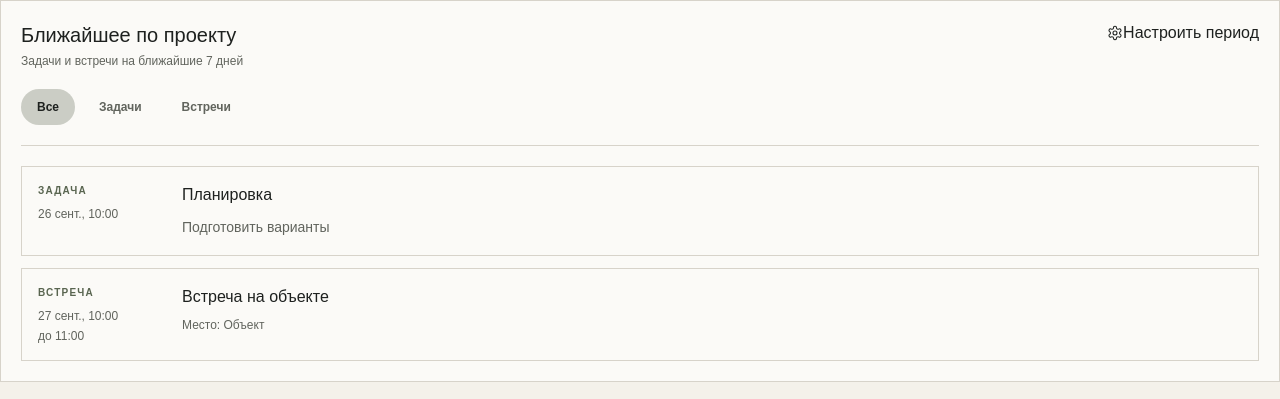
Test: ProjectUpcoming › loads items, filters them and hides creation actions without permission
This screenshot has width=1280, height=399.
Expected: the heading "Планировка" is shown, [182,186,272,203]
Expected: the heading "Встреча на объекте" is shown, [182,288,329,305]
Click the button "Задачи" at (120, 107), box [83,89,158,125]
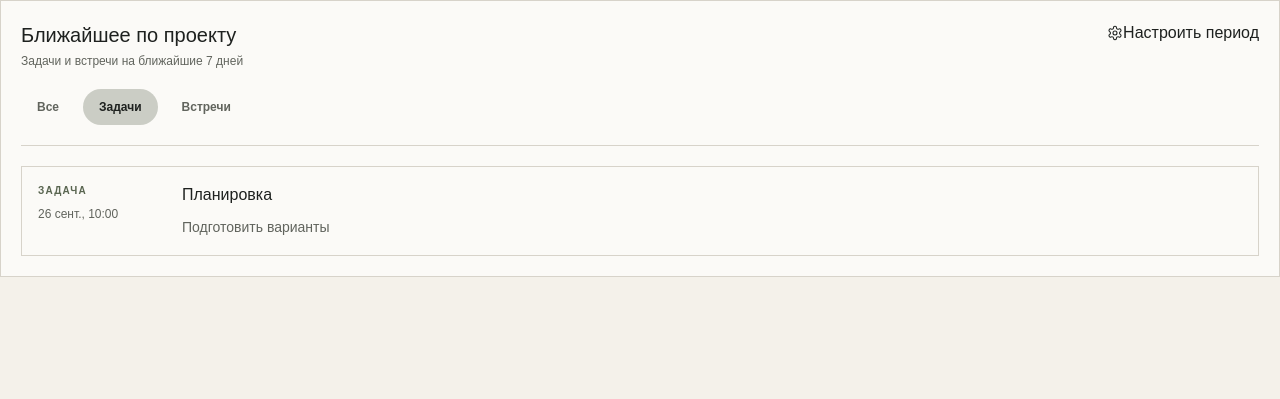
Expected: the heading "Планировка" is shown, [182,186,272,203]
Expected: the heading "Встреча на объекте" is gone
Click the button "Встречи" at (206, 107), box [166,89,247,125]
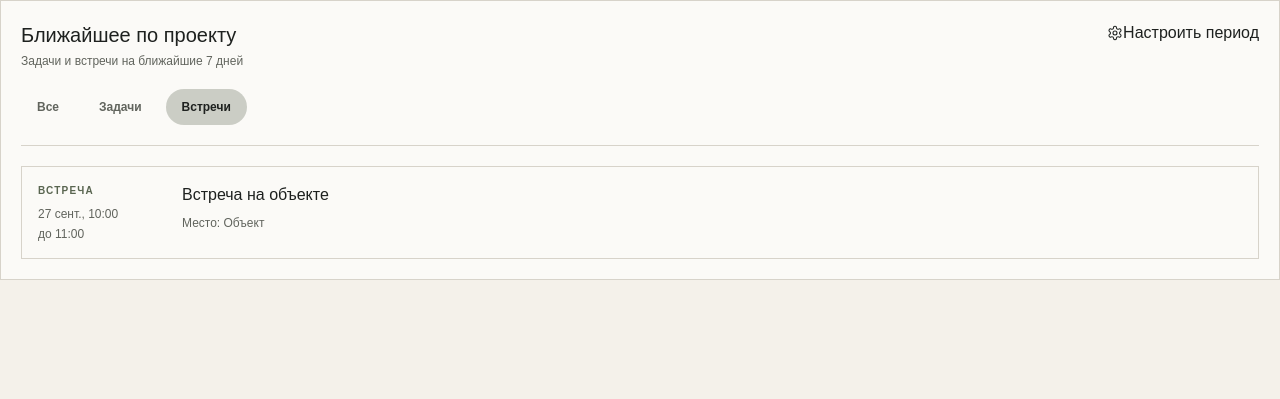
Expected: the heading "Планировка" is gone
Expected: the heading "Встреча на объекте" is shown, [182,186,329,203]
